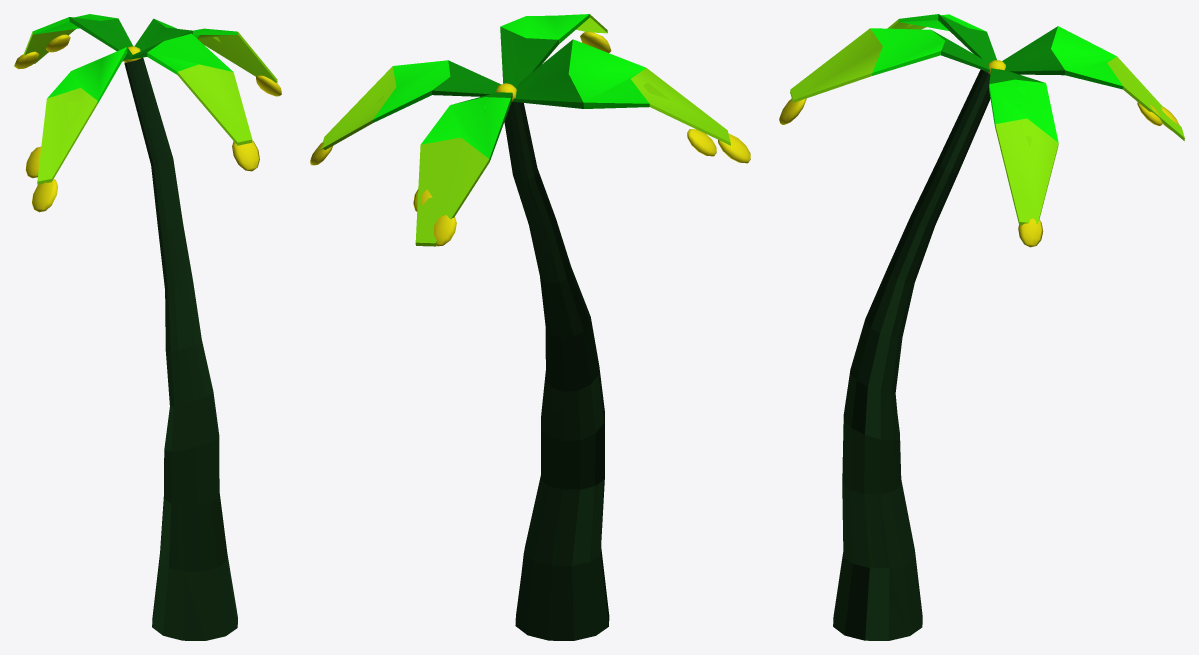
File: babana_palm.fbx
The picture shows the model from 3 angles, left to right: view 1: azimuth 30°, elevation 25°; view 2: azimuth 150°, elevation 25°; view 3: azimuth 270°, elevation 25°; orthographic projection. The views are drawn at different scales.
Visible parts, largest first — view 1: Palm_str, Sphere.005, Sphere.004; view 2: Palm_str; view 3: Palm_str.
Part boxes in pixels (x1,y1,x2,y2): Palm_str: [24, 14, 277, 640]; Sphere.005: [232, 140, 259, 171]; Sphere.004: [32, 179, 57, 212]; Palm_str: [320, 14, 730, 640]; Palm_str: [790, 14, 1184, 640].
Size of the model in its own units: 370 by 617 by 385.
